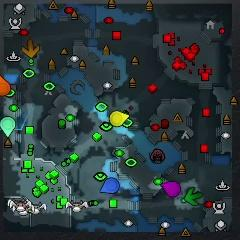p1: (100, 177, 120, 194)
p2: (0, 116, 16, 138)
p3: (161, 180, 180, 196)
p4: (110, 111, 129, 127)
p5: (0, 75, 11, 97)
x4: (185, 187, 202, 206)
x5: (20, 38, 40, 58)
